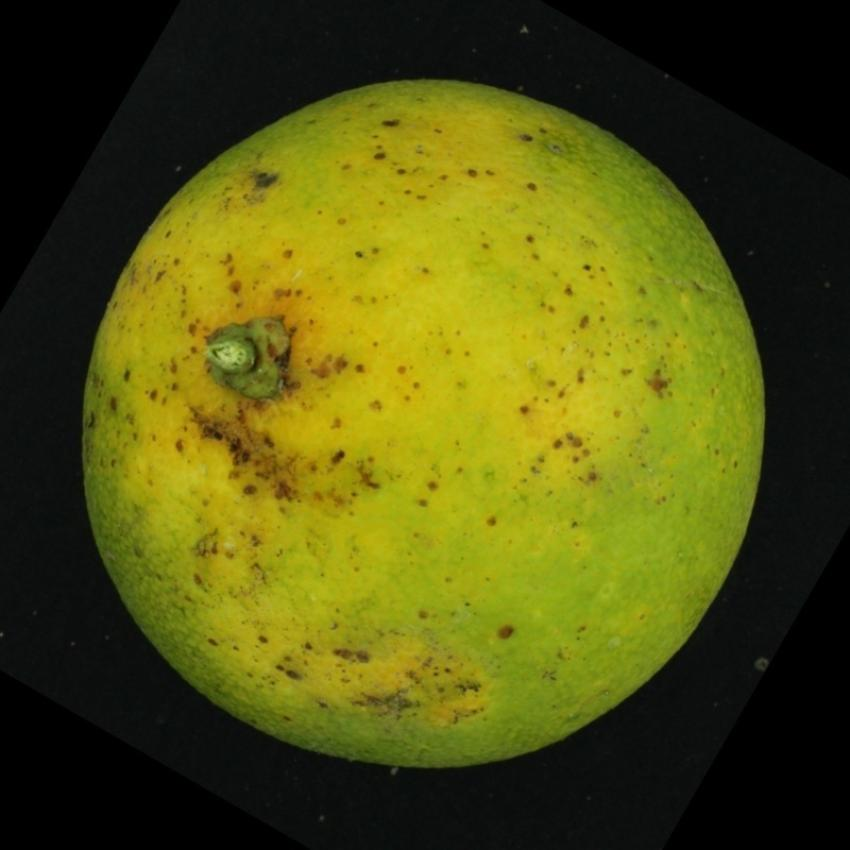Mal estado: (50, 54, 788, 779)
